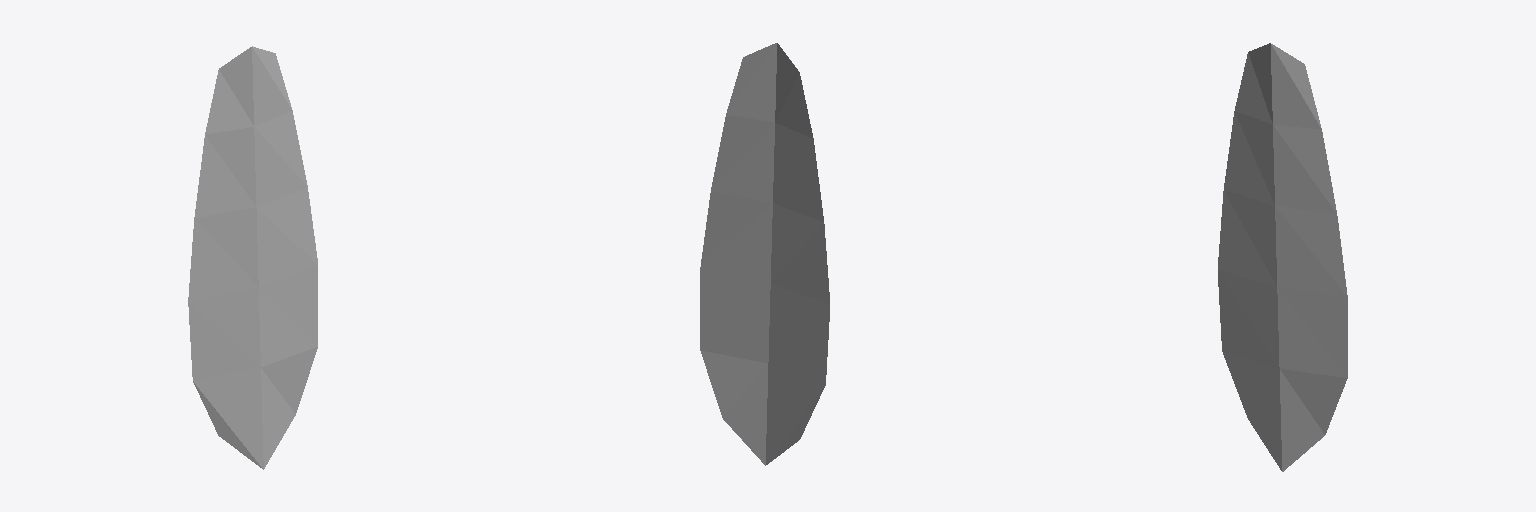
The model's file is pigeon_feather_flight_tertiary_020.obj.
3 views of the same model, side by side, from view 1: azimuth 30°, elevation 25°; view 2: azimuth 150°, elevation 25°; view 3: azimuth 330°, elevation 25° (orthographic).
Parts seen in each view (by area): view 1: feather_flight_tertiary_020; view 2: feather_flight_tertiary_020; view 3: feather_flight_tertiary_020.
Part boxes in pixels (x1,y1,x2,y2): feather_flight_tertiary_020: (188, 46, 317, 469); feather_flight_tertiary_020: (700, 43, 829, 465); feather_flight_tertiary_020: (1218, 43, 1347, 471).
Size of the model in its own units: 0.006 by 0.0188 by 0.0004.